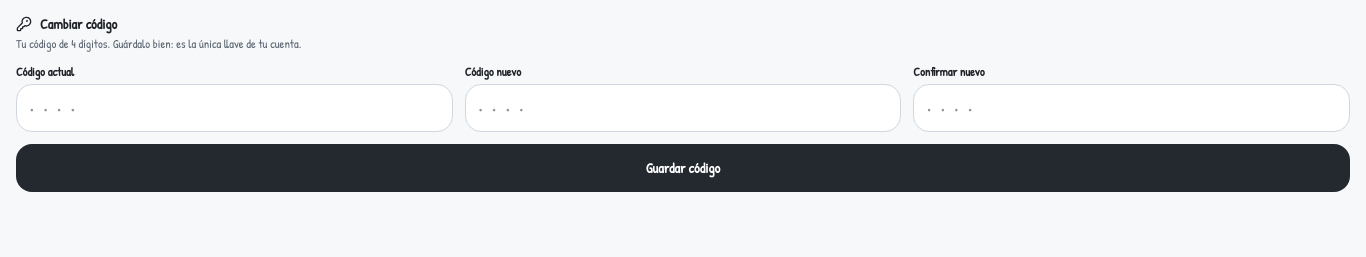
it: PinChangeForm (cambiar código) › envía actual+nuevo y actualiza el perfil
The image size is (1366, 257).
In the password field labelled "Código actual": (234, 108) left=16, top=84, right=453, bottom=132, type "1234"
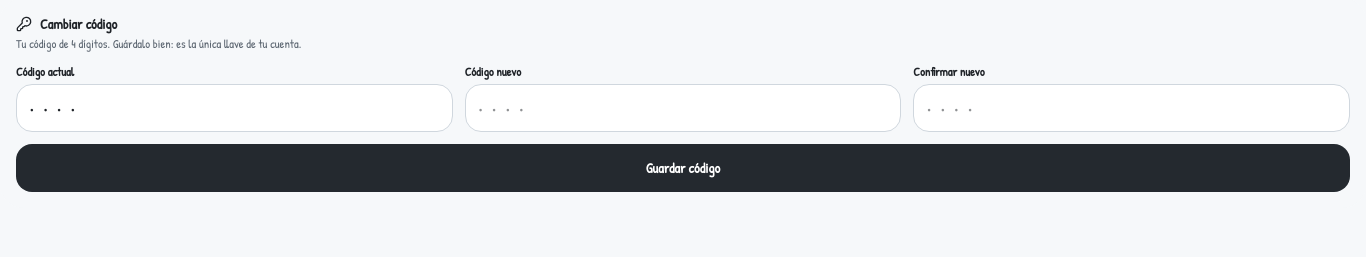
In the password field labelled "Código nuevo": (683, 108) left=465, top=84, right=901, bottom=132, type "4321"
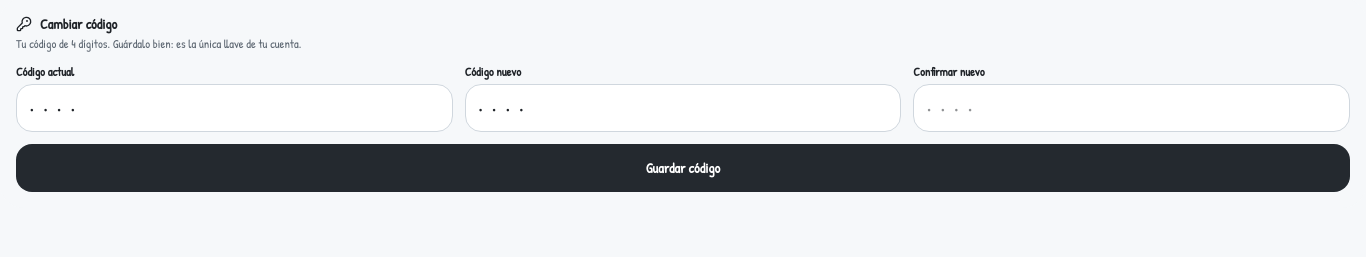
In the password field labelled "Confirmar nuevo": (1132, 108) left=913, top=84, right=1350, bottom=132, type "4321"
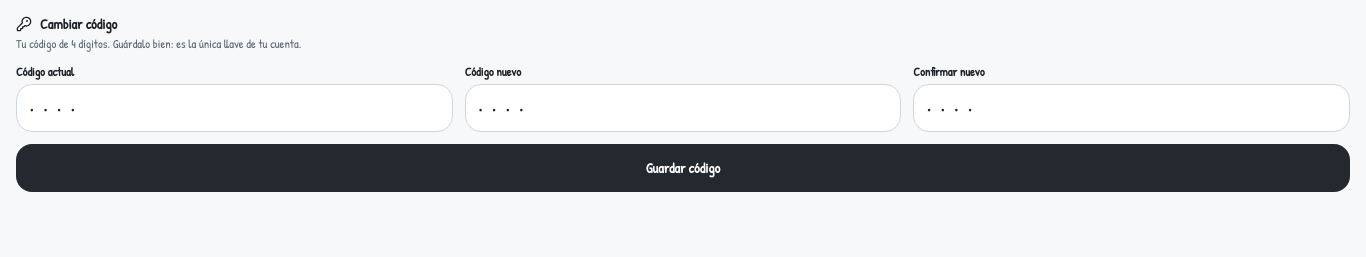
Click the button "Guardar código": (683, 168) left=16, top=144, right=1350, bottom=192
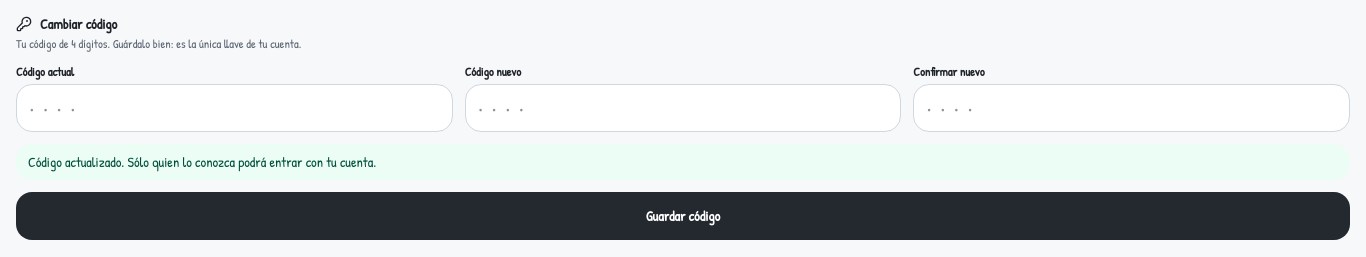
Expected: the message shows "Código actualizado", left=28, top=152, right=376, bottom=171
